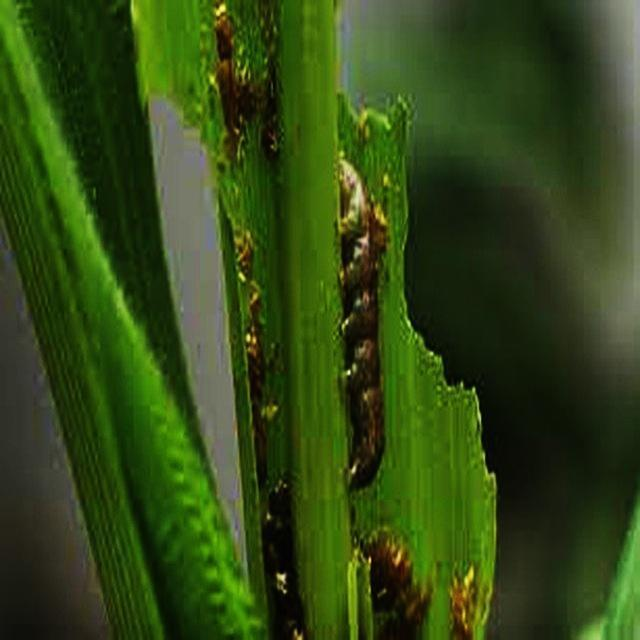gusano_cogollero: (334, 154, 389, 496)
